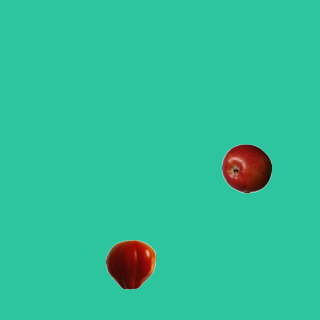Apple Braeburn: (221, 143, 271, 193)
Tomato 1: (105, 239, 155, 289)
